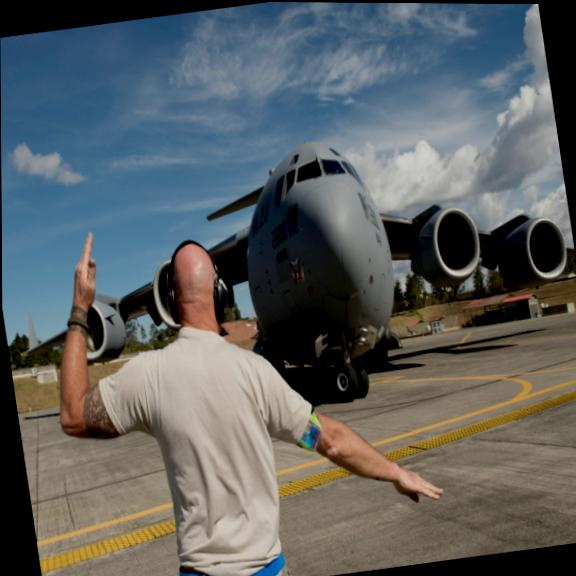no_safety_vest: (130, 313, 295, 576)
